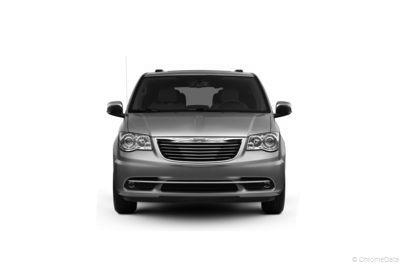car: (107, 71, 293, 216)
